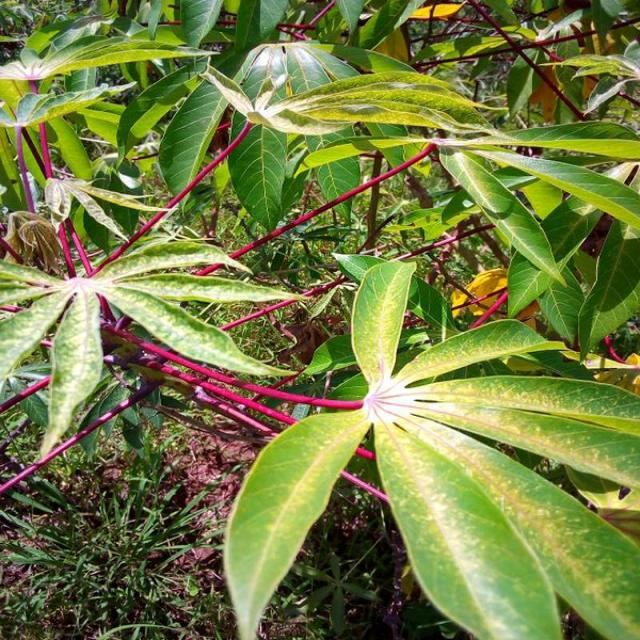cassava leaf: (222, 252, 638, 638), (222, 403, 371, 638)
